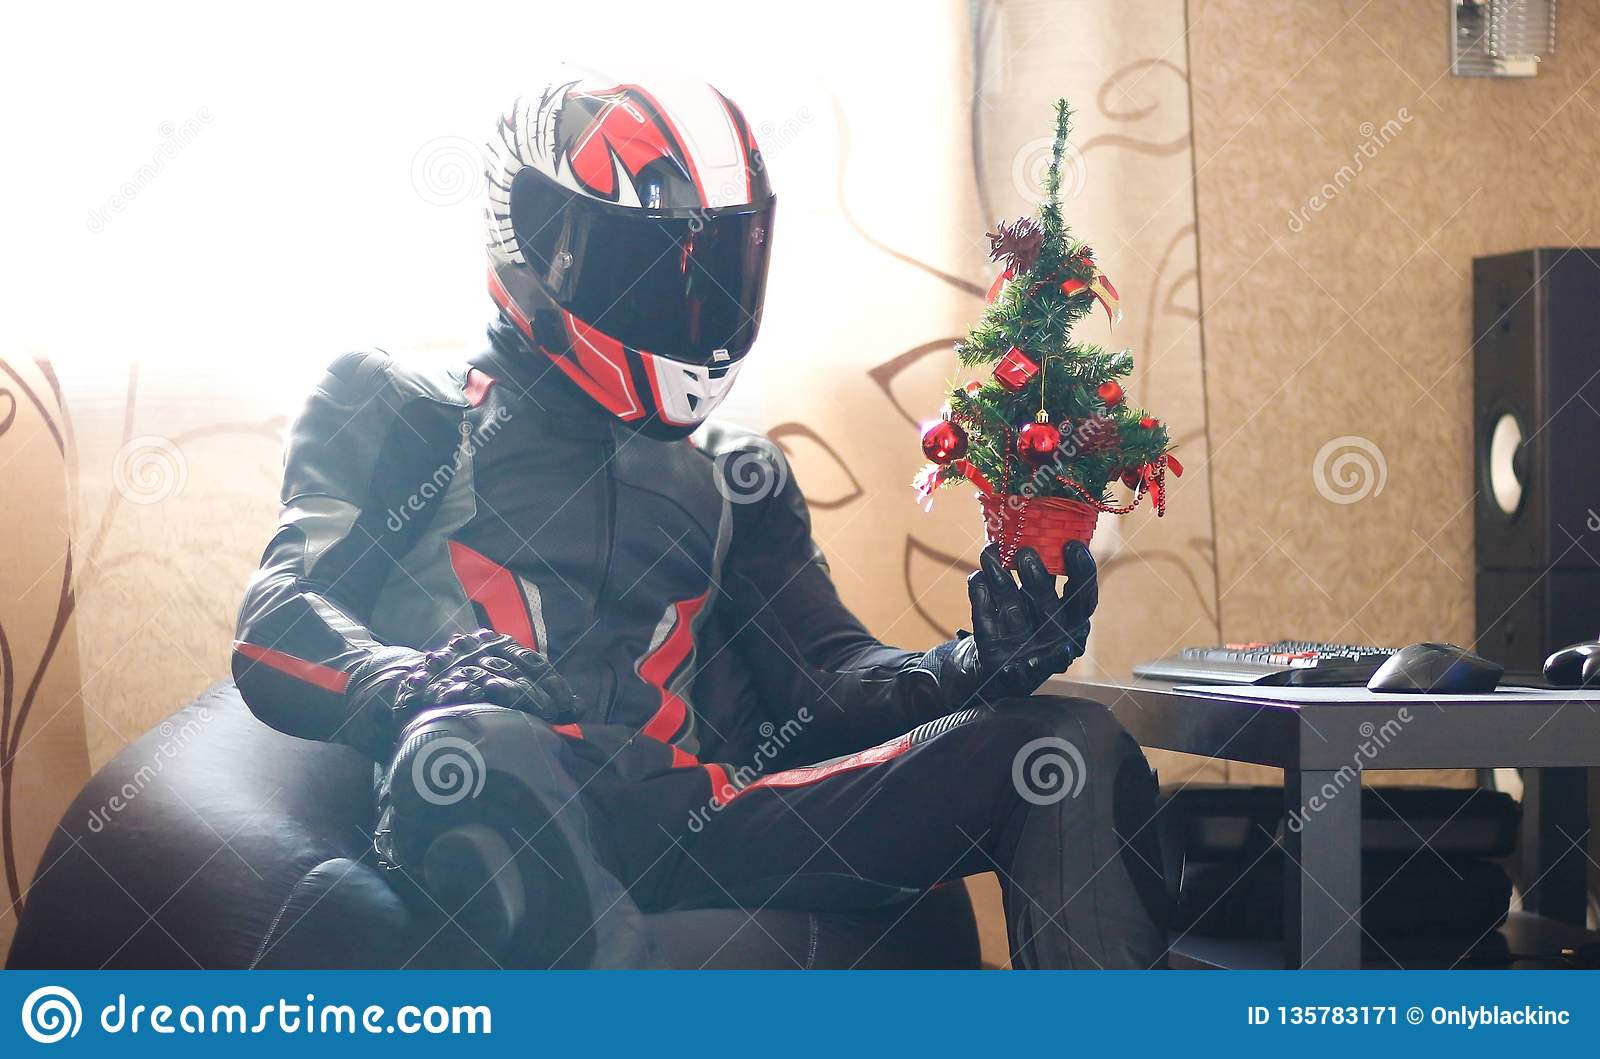helmet: (476, 60, 779, 412)
